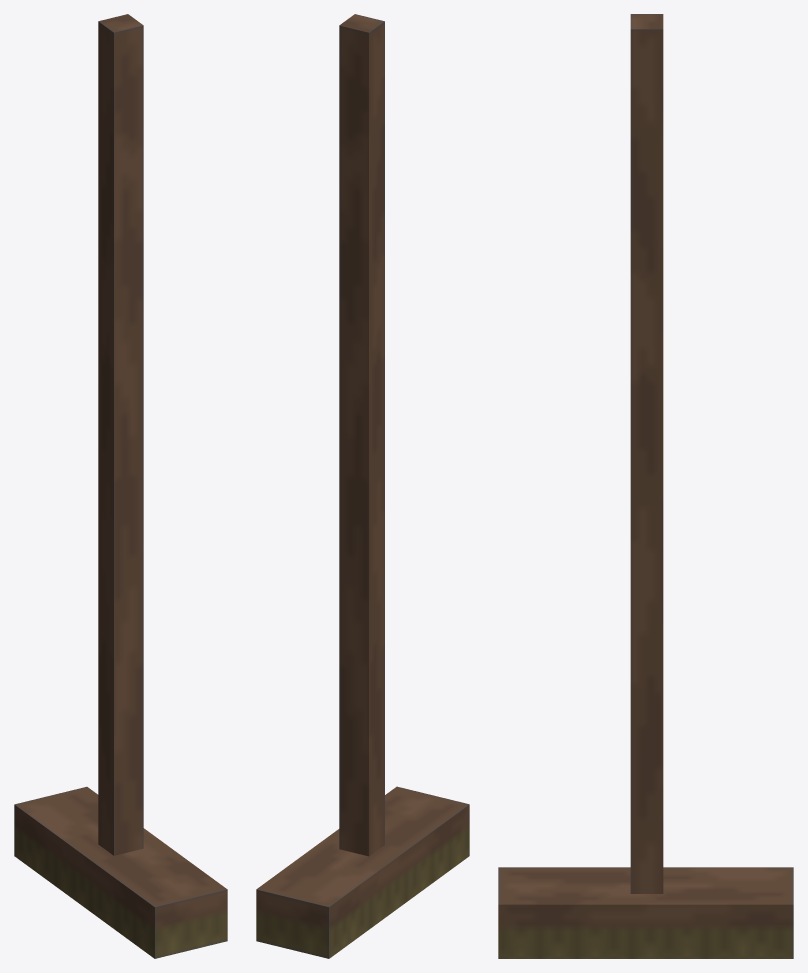
File: obj_broom.fbx
3 renders of one model, left to right at view 1: azimuth 30°, elevation 25°; view 2: azimuth 150°, elevation 25°; view 3: azimuth 270°, elevation 25°, orthographic. The views are drawn at different scales.
Visible parts, largest first — view 1: obj_broom; view 2: obj_broom; view 3: obj_broom.
Boxes of the visible parts, <box> form: obj_broom: <box>14,14,227,958</box>; obj_broom: <box>256,14,469,958</box>; obj_broom: <box>498,14,793,958</box>.
Bounding box in the file's own units: 12.53 × 144 × 41.85.
